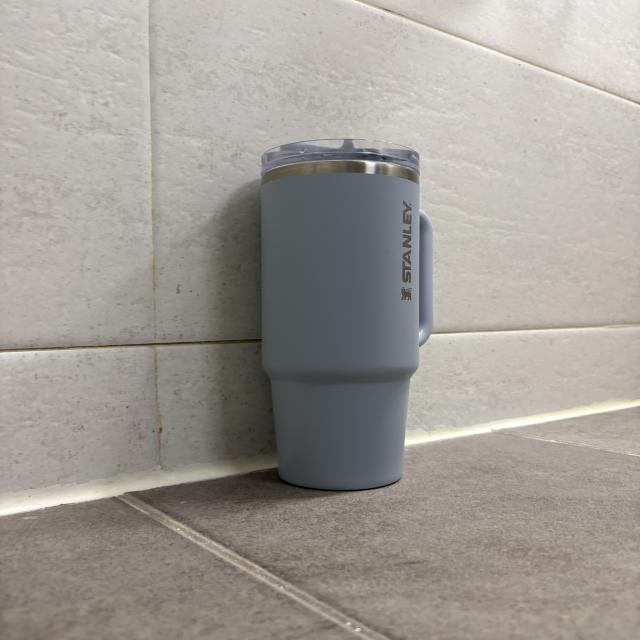waterbottle: (263, 136, 435, 492)
